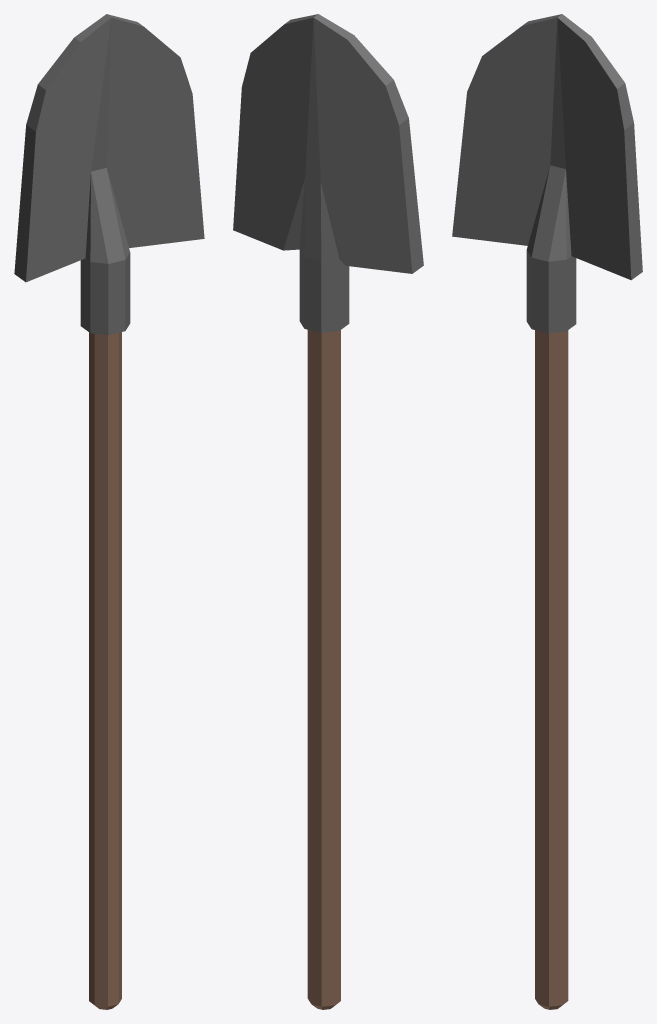
Rendered from shovel.fbx.
3 views of the same model, side by side, from view 1: azimuth 30°, elevation 25°; view 2: azimuth 150°, elevation 25°; view 3: azimuth 330°, elevation 25° (orthographic).
Parts seen in each view (by area): view 1: shovel; view 2: shovel; view 3: shovel.
Part boxes in pixels (<box>): shovel: <box>14,14,204,1009</box>; shovel: <box>233,14,423,1009</box>; shovel: <box>452,14,642,1009</box>.
Size of the model in its own units: 2966 by 15657 by 661.
